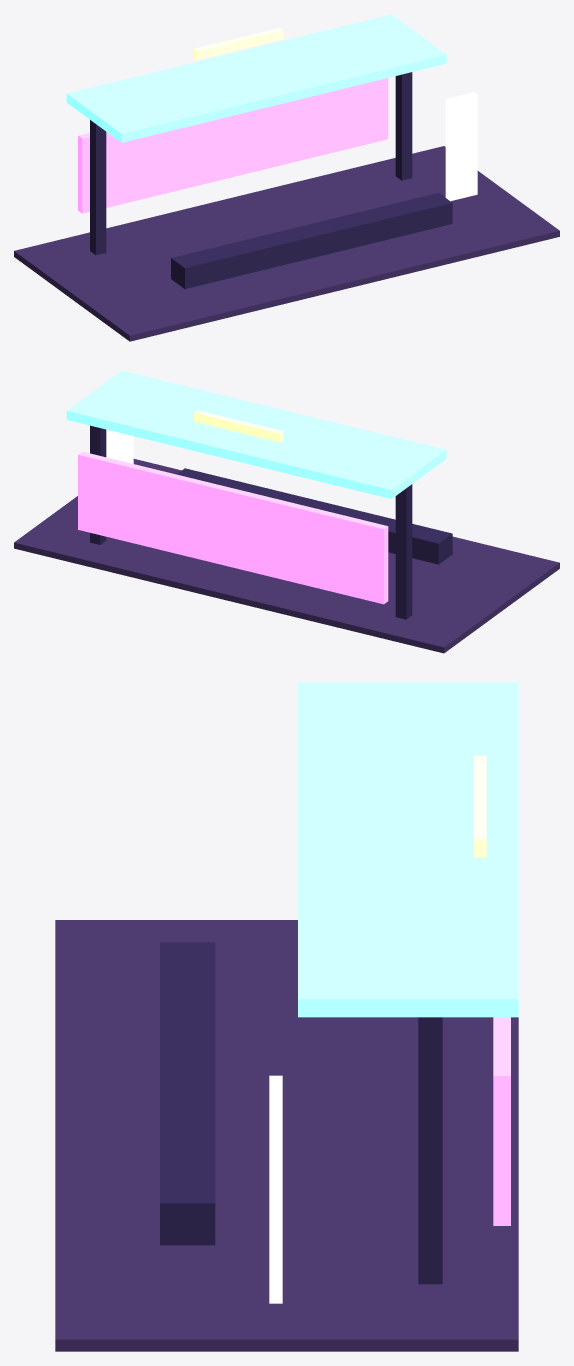
Rendered from 15_bus_stop_shelter.glb.
The picture shows the model from 3 angles, top to bottom: view 1: azimuth 30°, elevation 25°; view 2: azimuth 150°, elevation 25°; view 3: azimuth 270°, elevation 25°; orthographic projection. The views are drawn at different scales.
Visible parts, largest first — view 1: pad_0, roof_3, back_panel_4, benchL_5, benchR_6, ad_panel_8, pole1_1, pole2_2, route_sign_7; view 2: back_panel_4, pad_0, roof_3, pole1_1, benchL_5, benchR_6, route_sign_7, ad_panel_8, pole2_2; view 3: pad_0, roof_3, benchR_6, benchL_5, pole2_2, back_panel_4, ad_panel_8, route_sign_7.
Boxes of the visible parts, box(x1,y1,x2,y2) form: pad_0: box(14, 146, 559, 341); roof_3: box(66, 14, 446, 142); back_panel_4: box(78, 78, 388, 213); benchL_5: box(171, 225, 318, 288); benchR_6: box(305, 193, 452, 256); ad_panel_8: box(445, 92, 477, 201); pole1_1: box(90, 120, 106, 255); pole2_2: box(395, 72, 412, 180); route_sign_7: box(194, 28, 283, 59); back_panel_4: box(78, 451, 388, 604); pad_0: box(14, 459, 559, 653); roof_3: box(66, 370, 446, 498); pole1_1: box(395, 484, 412, 619); benchL_5: box(310, 501, 452, 564); benchR_6: box(176, 468, 317, 506); route_sign_7: box(194, 410, 283, 442); ad_panel_8: box(106, 429, 133, 463); pole2_2: box(90, 425, 106, 544); pad_0: box(55, 920, 518, 1351); roof_3: box(298, 682, 518, 1017); benchR_6: box(160, 1073, 215, 1245); benchL_5: box(160, 942, 215, 1072); pole2_2: box(418, 1017, 442, 1284); back_panel_4: box(493, 1017, 510, 1225); ad_panel_8: box(269, 1075, 282, 1303); route_sign_7: box(473, 755, 486, 857).
Size of the model in its own units: 9 by 3.44 by 4.2.
